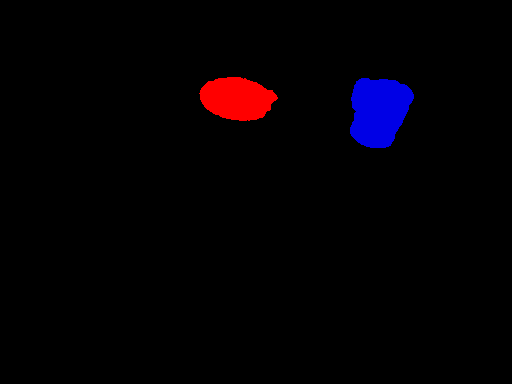cup: (350, 75, 414, 149)
speaker: (197, 76, 280, 125)
